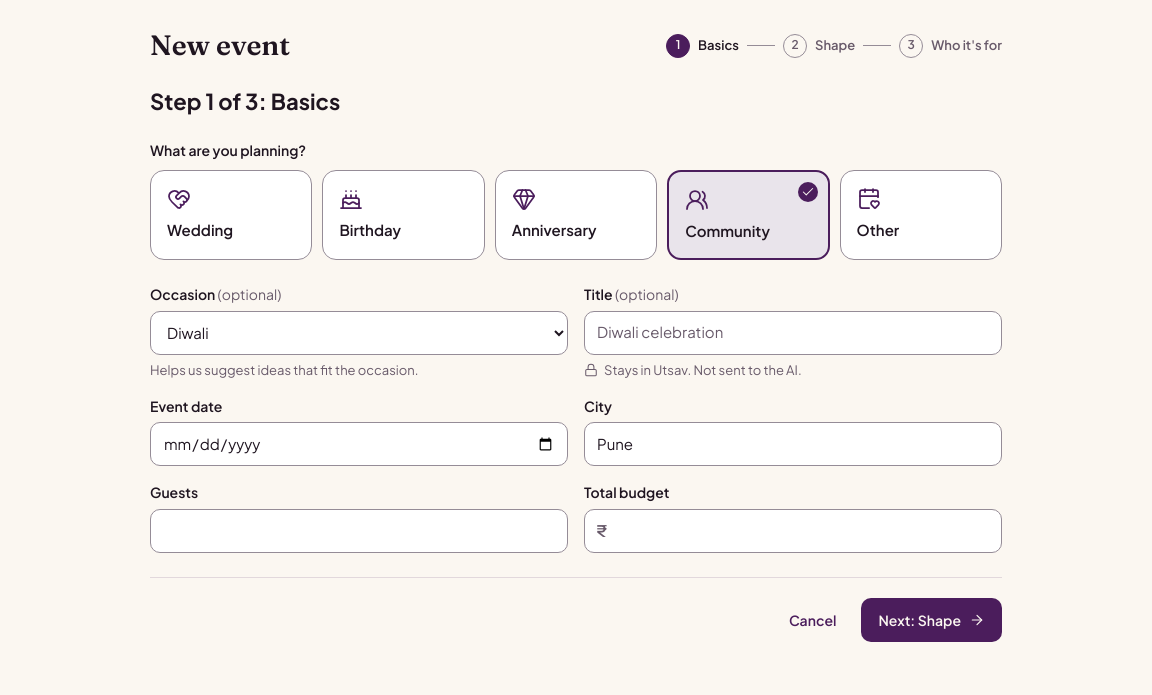
NewEventWizard, step 1 › notes the festival next to a community date
Expected: the heading "Step 1 of 3: Basics" is shown, x1=150 y1=87 x2=340 y2=115
Expected: the dropdown labelled "Occasion (optional)" shows "Diwali", x1=150 y1=311 x2=568 y2=355
Type "2026-11-06" into the date field labelled "Event date" at (359, 444), box x1=150 y1=422 x2=568 y2=466
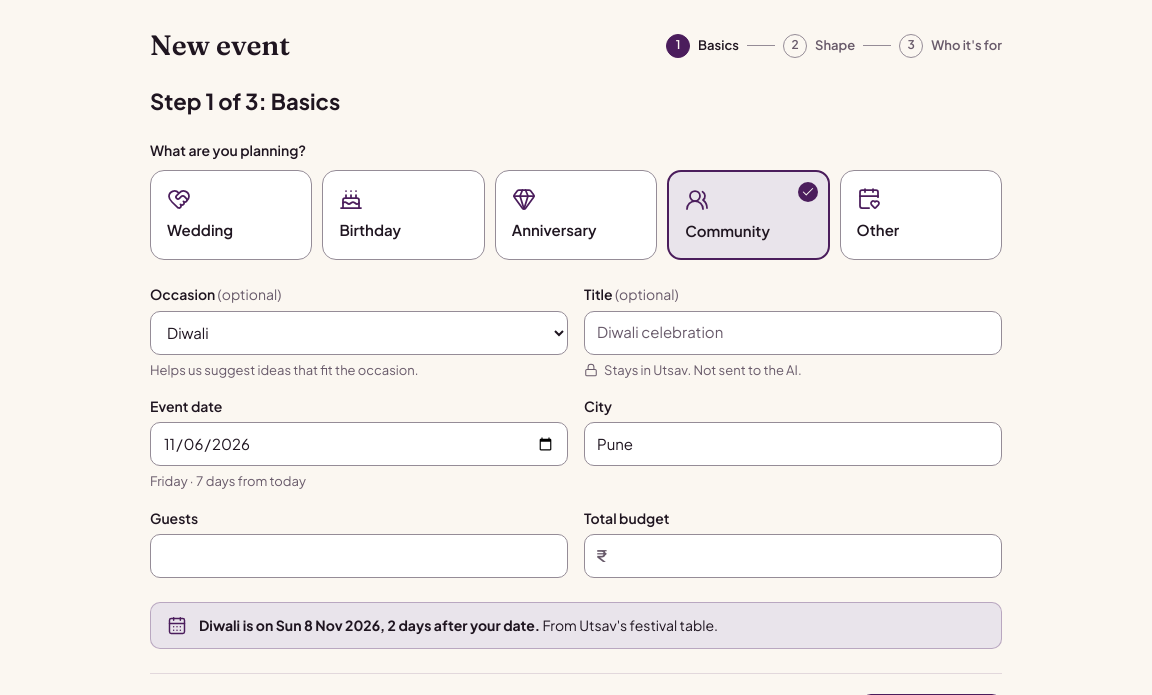
Expected: the text "Diwali is on Sun 8 Nov 2026, 2 days after your date." is shown, x1=199 y1=616 x2=540 y2=634
